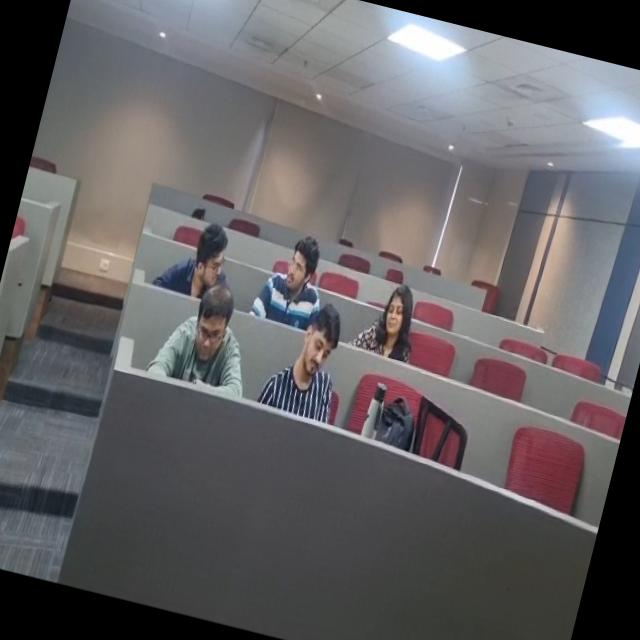cheating: (268, 286, 352, 420), (262, 230, 334, 331), (167, 213, 240, 303), (359, 277, 420, 368)
non-cheating: (150, 274, 263, 396)
